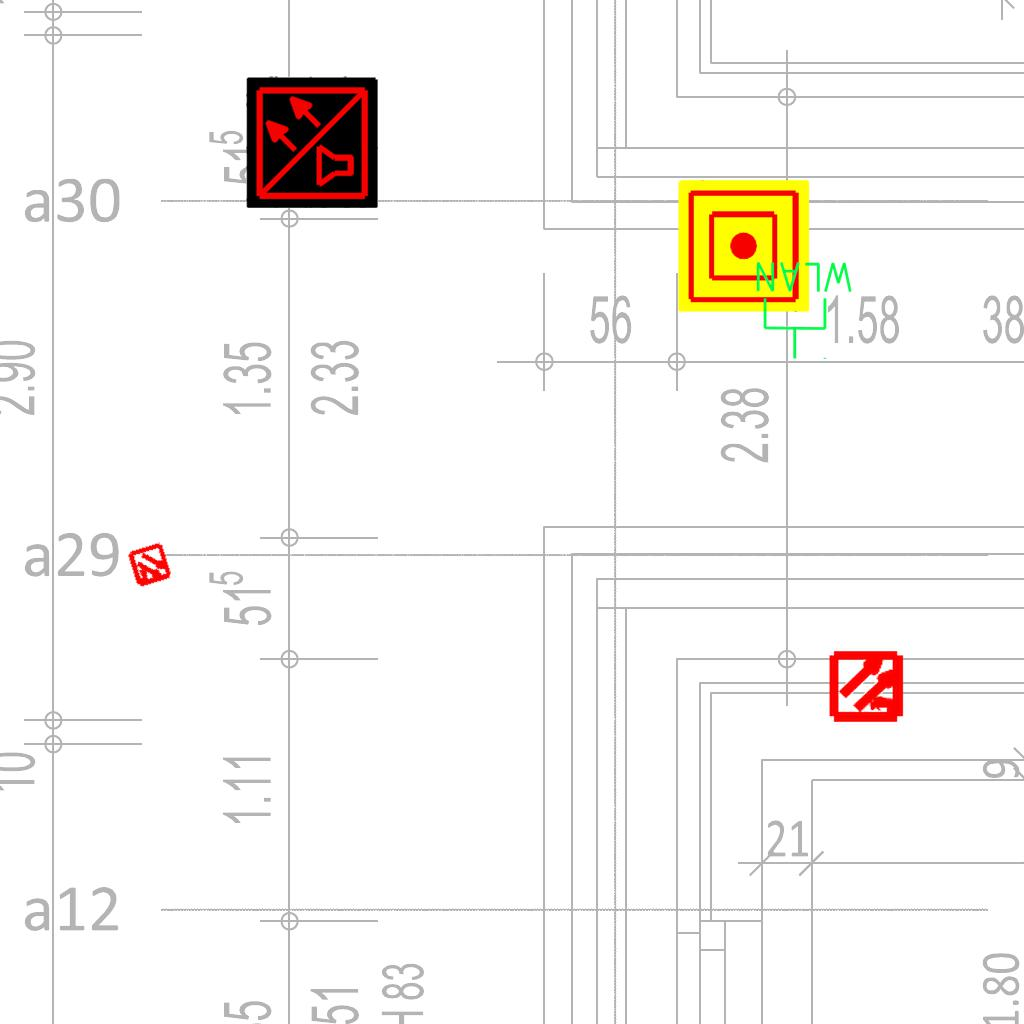NAM-Nichtautomatischer_Melder: (678, 180, 810, 312)
OKW_Multisensormelder_(Kombination_optischer_Rauch-Kahlenmonoxid_Waerme-Melder): (246, 76, 378, 208)
OT_Multisensormelder_(Kombination_RMO_WMD): (812, 630, 925, 743), (115, 531, 185, 601)
WLAN: (752, 258, 857, 362)
